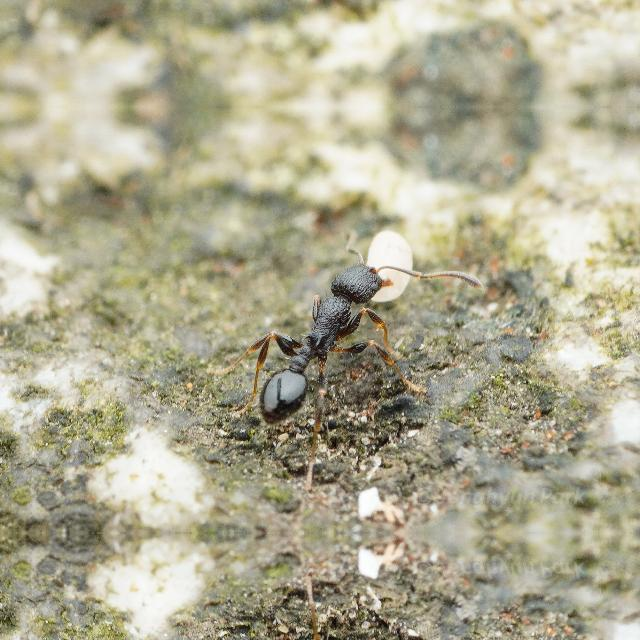Temnothorax: (221, 228, 433, 436)
